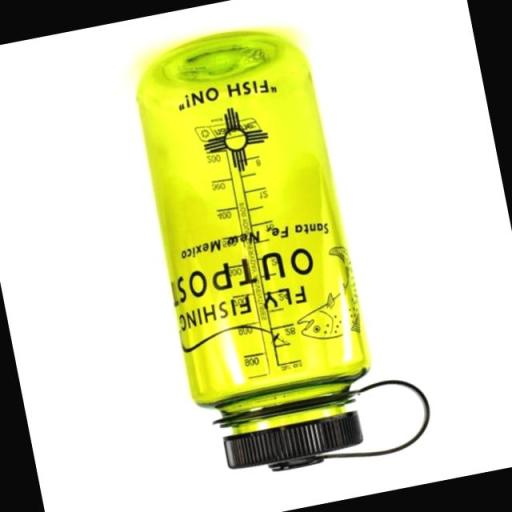bottle: (120, 5, 438, 491)
